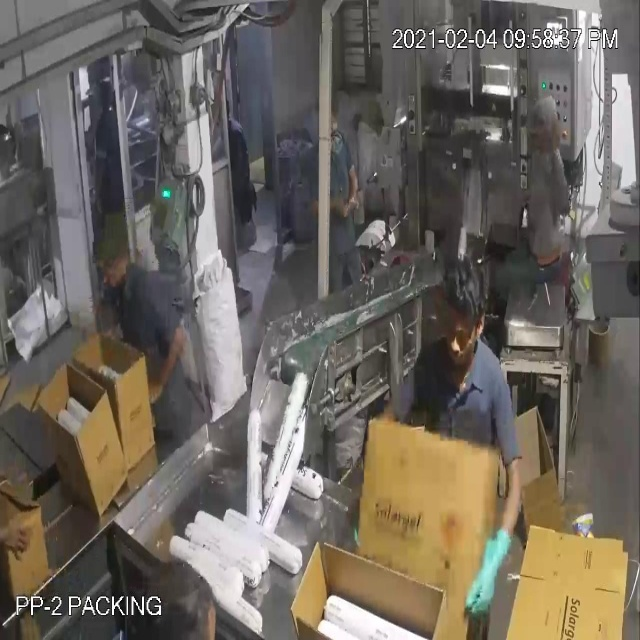Guantes: (458, 499, 522, 636)
Sin_guantes: (138, 309, 189, 415), (0, 499, 40, 568), (342, 152, 364, 228)
